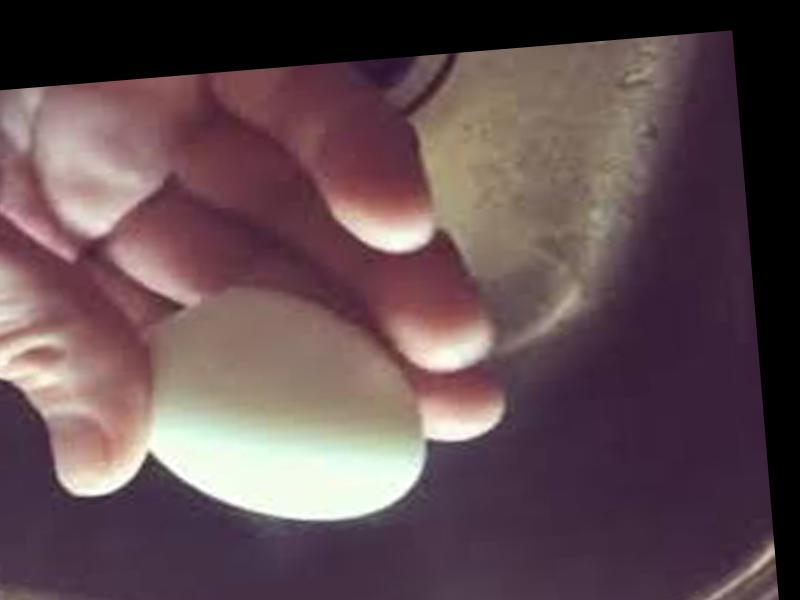Eggs: (134, 277, 432, 534)
